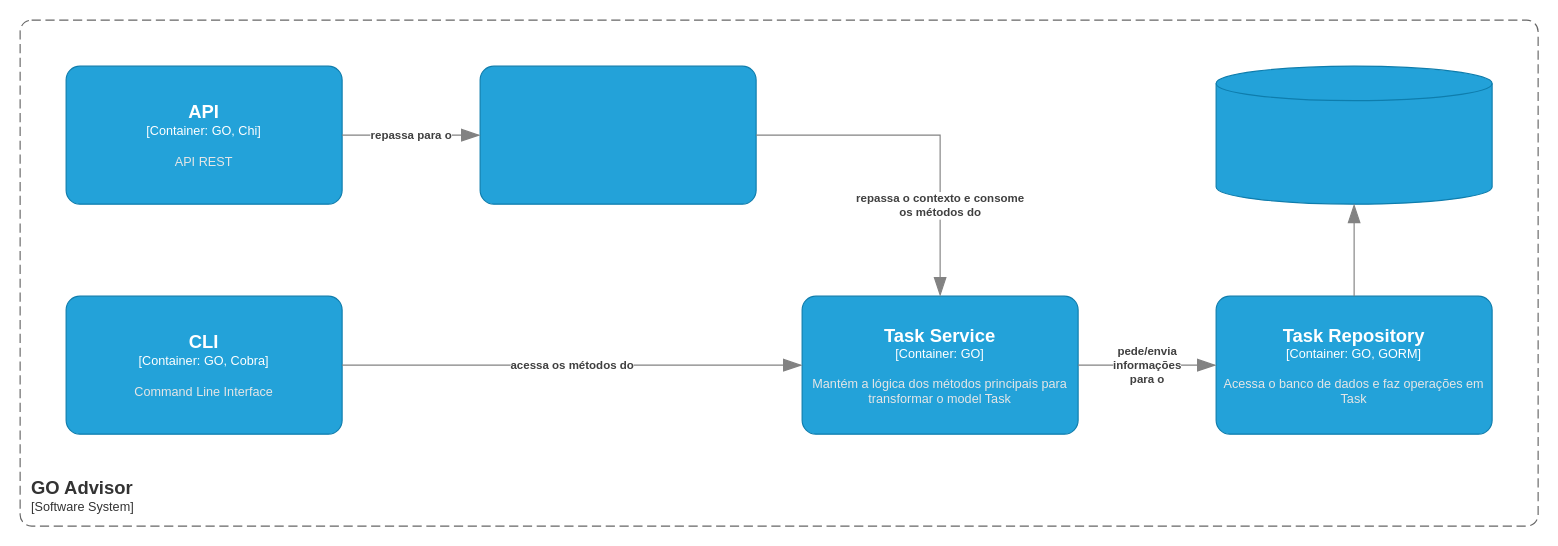
Some shapes in this 1558 by 546 pixel diagram are drawn without their labels. Each missing label, with the centre of its shape:
"Banco de dados [Container: PostgreSQL 16] Persiste as informações das Tasks" goes at pixel 1353 134.
"Handler [Container: GO] Orquestra as requisições HTTP" goes at pixel 617 134.
